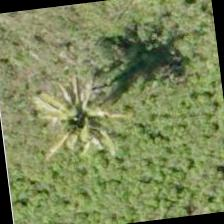Kelapa_Sawit: (26, 68, 127, 168)
